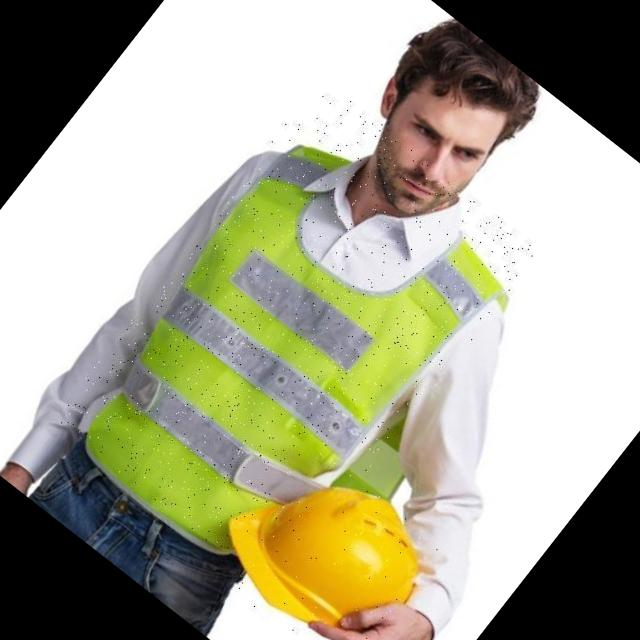hard_hat: (212, 441, 447, 640)
safety_vest: (52, 77, 543, 594)
